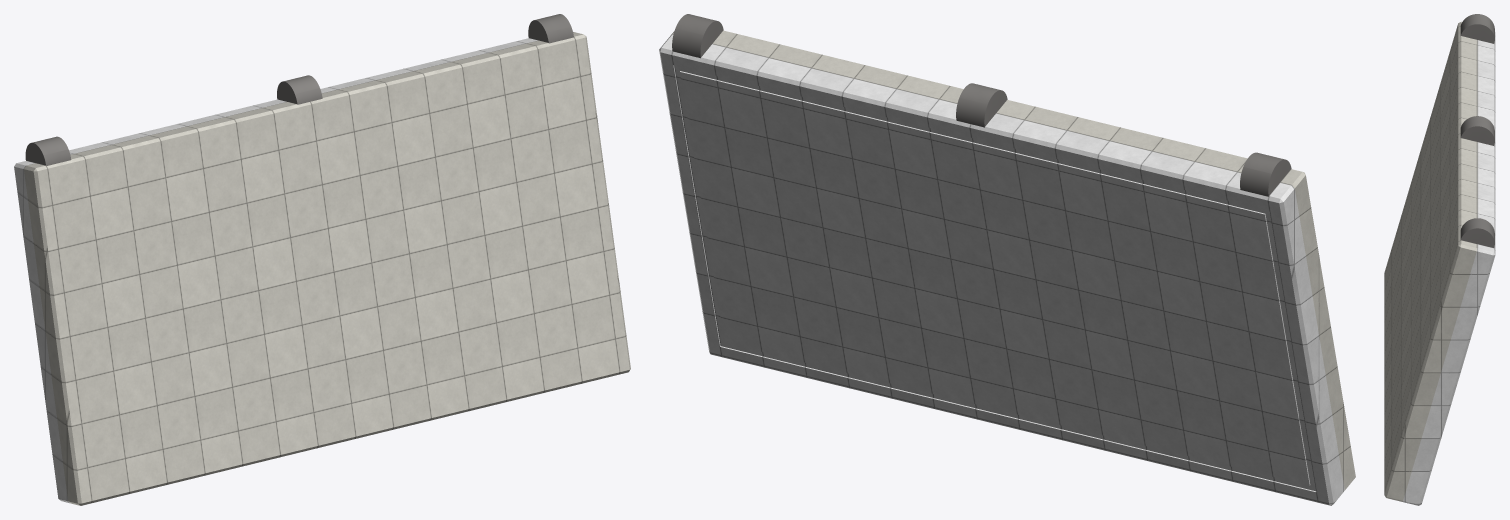
The model's file is ax_aero_26_csbf_body_flap_mk3_defl_neg.glb.
3 renders of one model, left to right at view 1: azimuth 30°, elevation 25°; view 2: azimuth 150°, elevation 25°; view 3: azimuth 270°, elevation 25°, orthographic. The views are drawn at different scales.
Parts seen in each view (by area): view 1: flap_top, flap_underside, hinge_fittings; view 2: flap_underside, flap_top, hinge_fittings; view 3: flap_top, flap_underside, hinge_fittings.
Part boxes in pixels (bbox=[...]): flap_top: bbox=[24, 32, 630, 505]; flap_underside: bbox=[14, 38, 538, 503]; hinge_fittings: bbox=[25, 14, 573, 165]; flap_underside: bbox=[659, 34, 1344, 505]; flap_top: bbox=[670, 30, 1355, 489]; hinge_fittings: bbox=[672, 14, 1291, 196]; flap_top: bbox=[1384, 21, 1477, 501]; flap_underside: bbox=[1402, 32, 1495, 505]; hinge_fittings: bbox=[1460, 14, 1494, 248].
Bounding box in the file's own units: 2.2 × 1.25 × 0.46.
3 materials, 3 textured.
